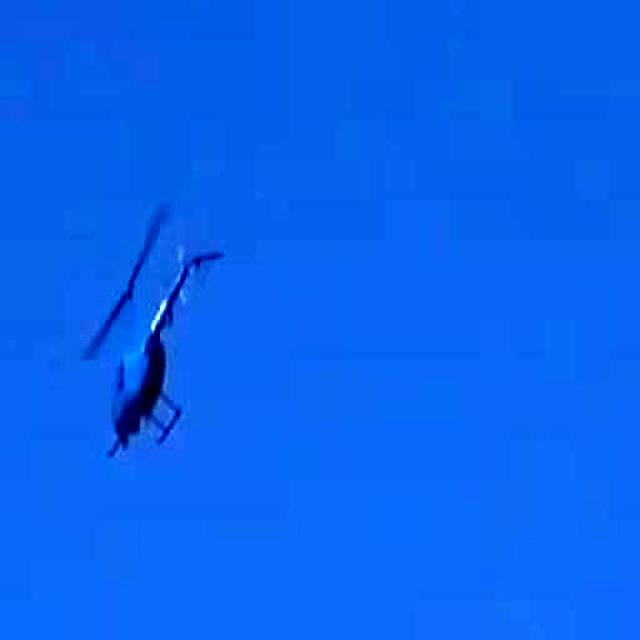drone: (42, 236, 254, 484)
